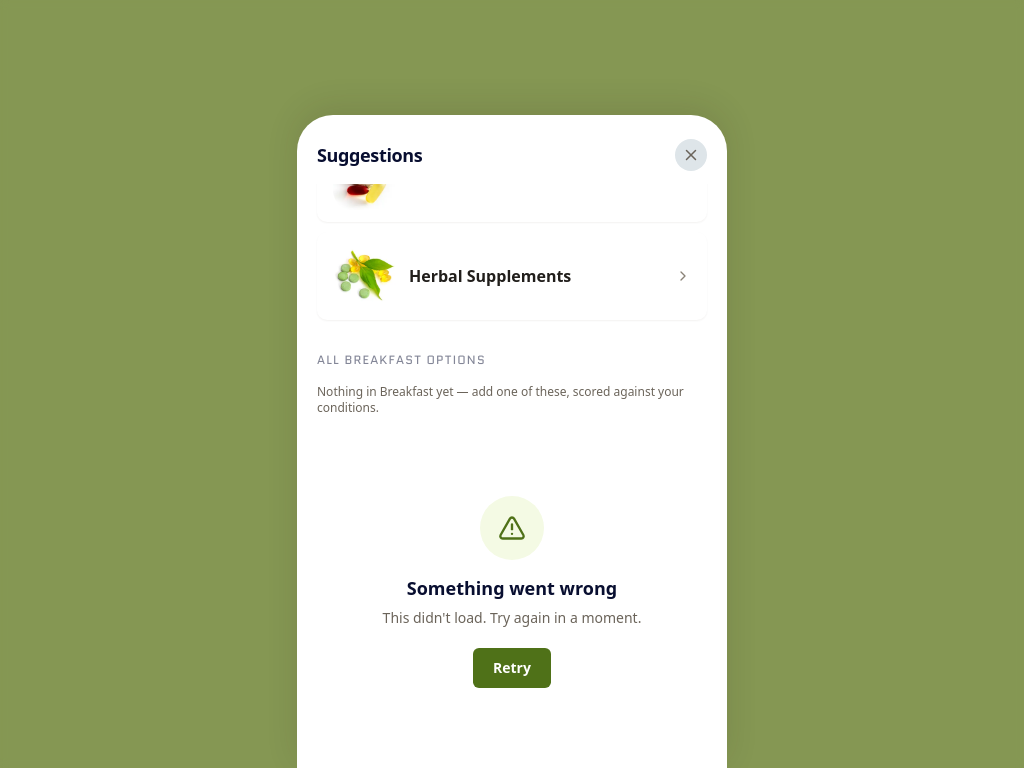
Test: SuggestionsSheet — shared DataState (checklist #8) › shows an error with Retry when the full-list fetch fails, and recovers on Retry
(page scrolled)
What coordinates should you click on to do the following:
click the button "Retry"
I would click on:
 (512, 668)
Its box is [473,648,551,688].
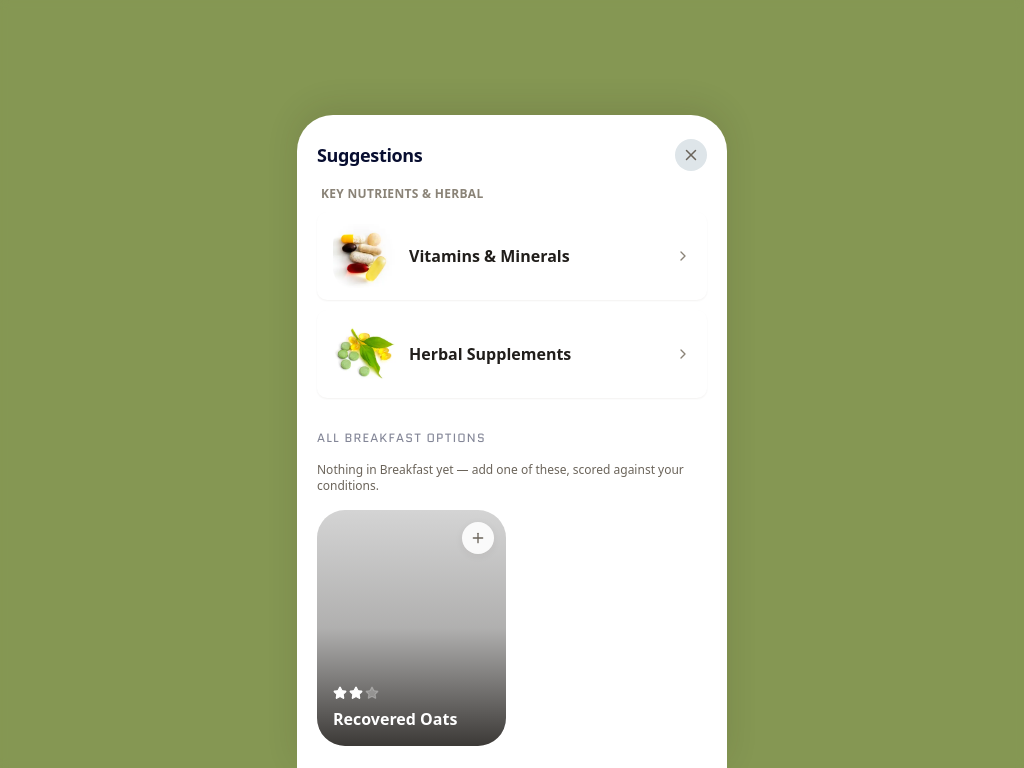
Result: the text "Recovered Oats" is shown at [333,708,457,730]
Result: the text "Something went wrong" is gone
